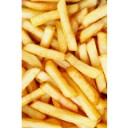frenchfries: (23, 1, 108, 127)
